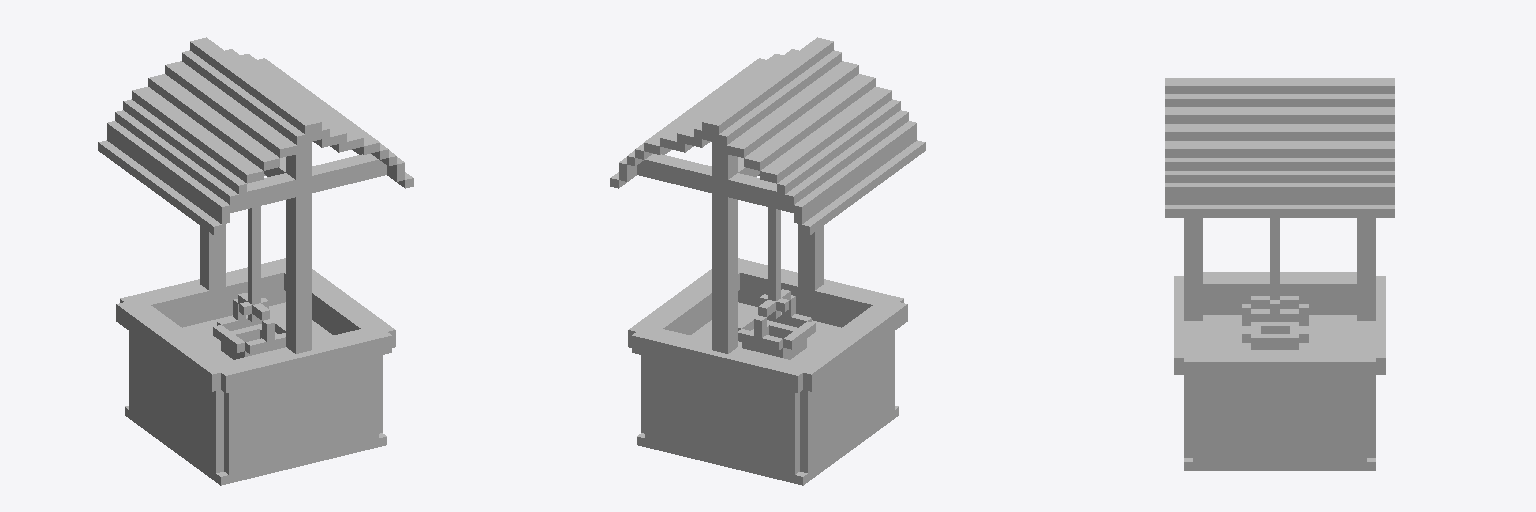
File: Tarefa Poço-11.obj
The picture shows the model from 3 angles: view 1: azimuth 30°, elevation 25°; view 2: azimuth 150°, elevation 25°; view 3: azimuth 270°, elevation 25°; orthographic projection.
Size of the model in its own units: 24 by 40 by 24.